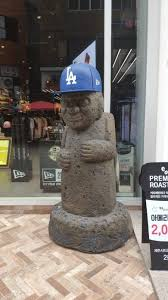Stone Statue: (42, 60, 136, 258)
